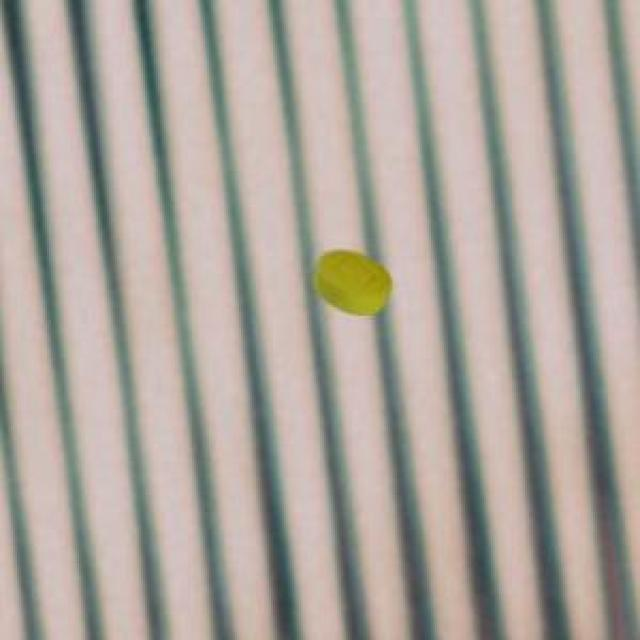Decolgen: (302, 234, 403, 334)
